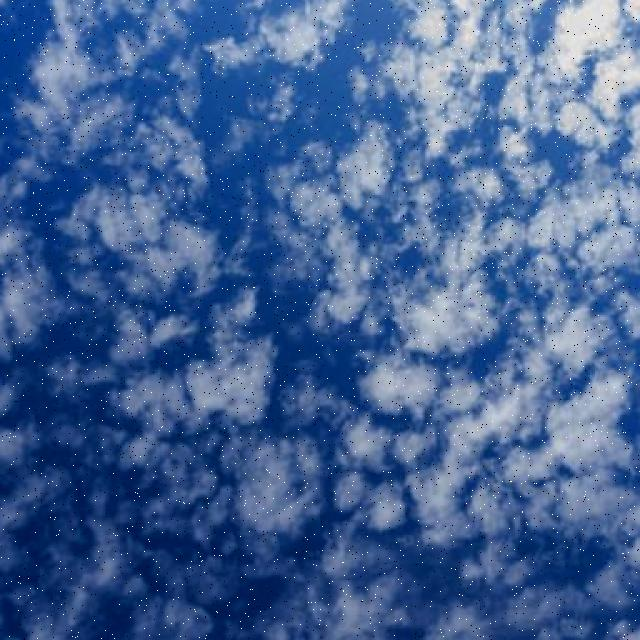Ac: (1, 2, 640, 588)
